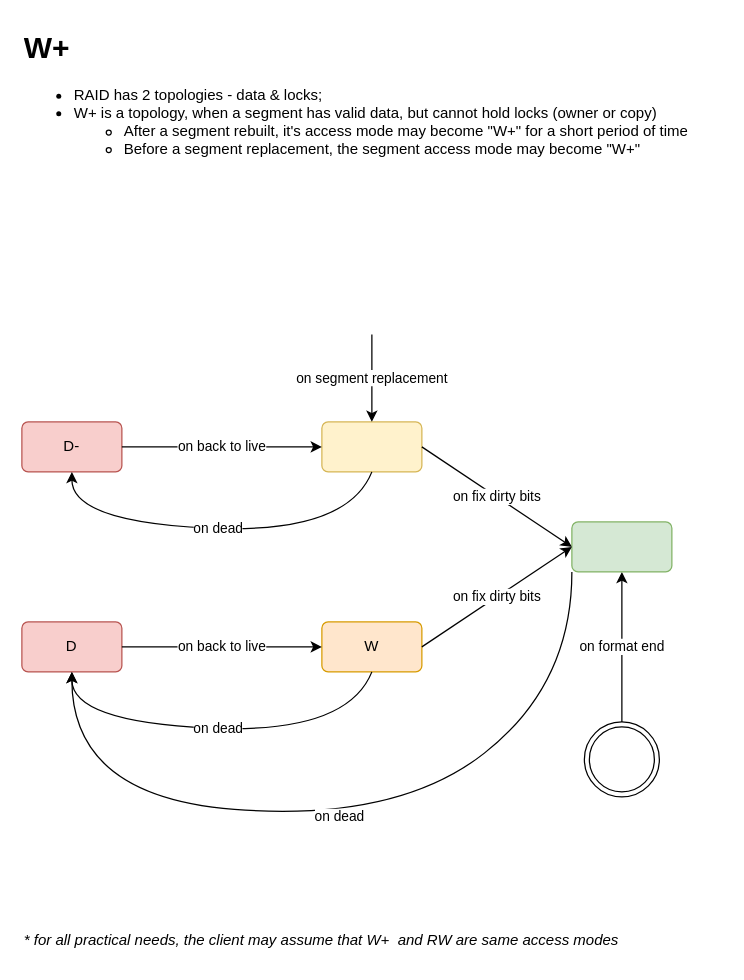
Some shapes in this 744 by 980 pixel diagram are drawn without their labels. Each missing label, with the box of its shape:
RW: (571, 521, 672, 572)
W-: (321, 421, 422, 472)
